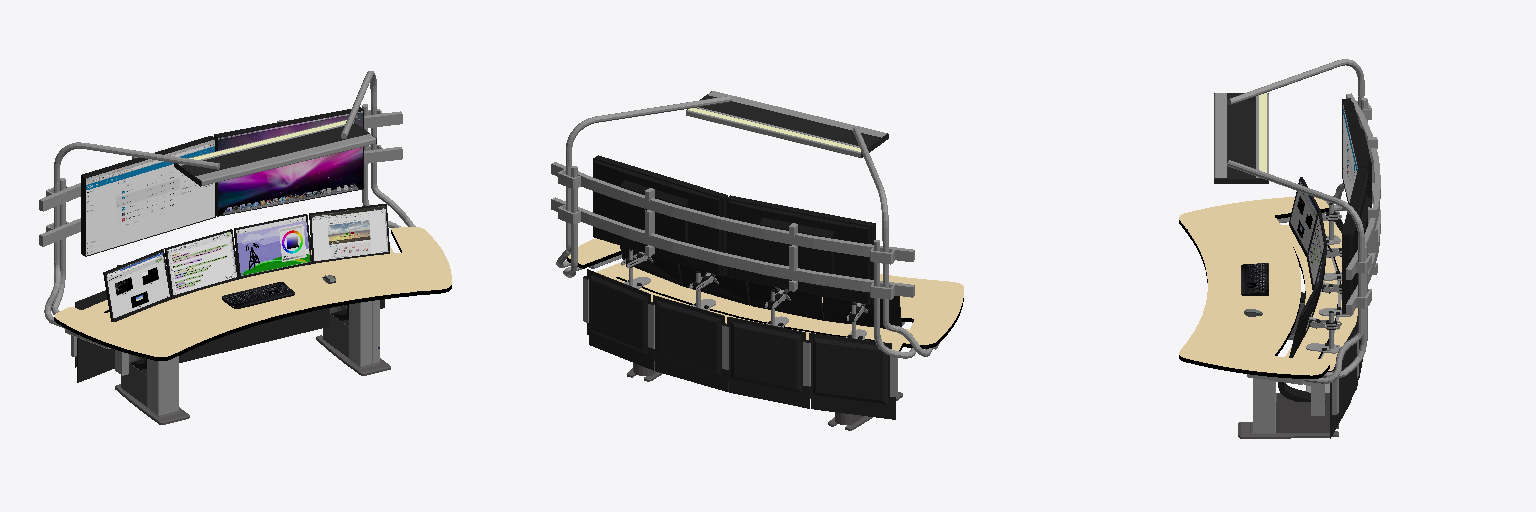
The picture shows the model from 3 angles: view 1: azimuth 30°, elevation 25°; view 2: azimuth 150°, elevation 25°; view 3: azimuth 270°, elevation 25°; orthographic projection.
Bounding box in the file's own units: 2.76 × 1.8 × 1.31.
Materials: 23 (7 with a texture image).